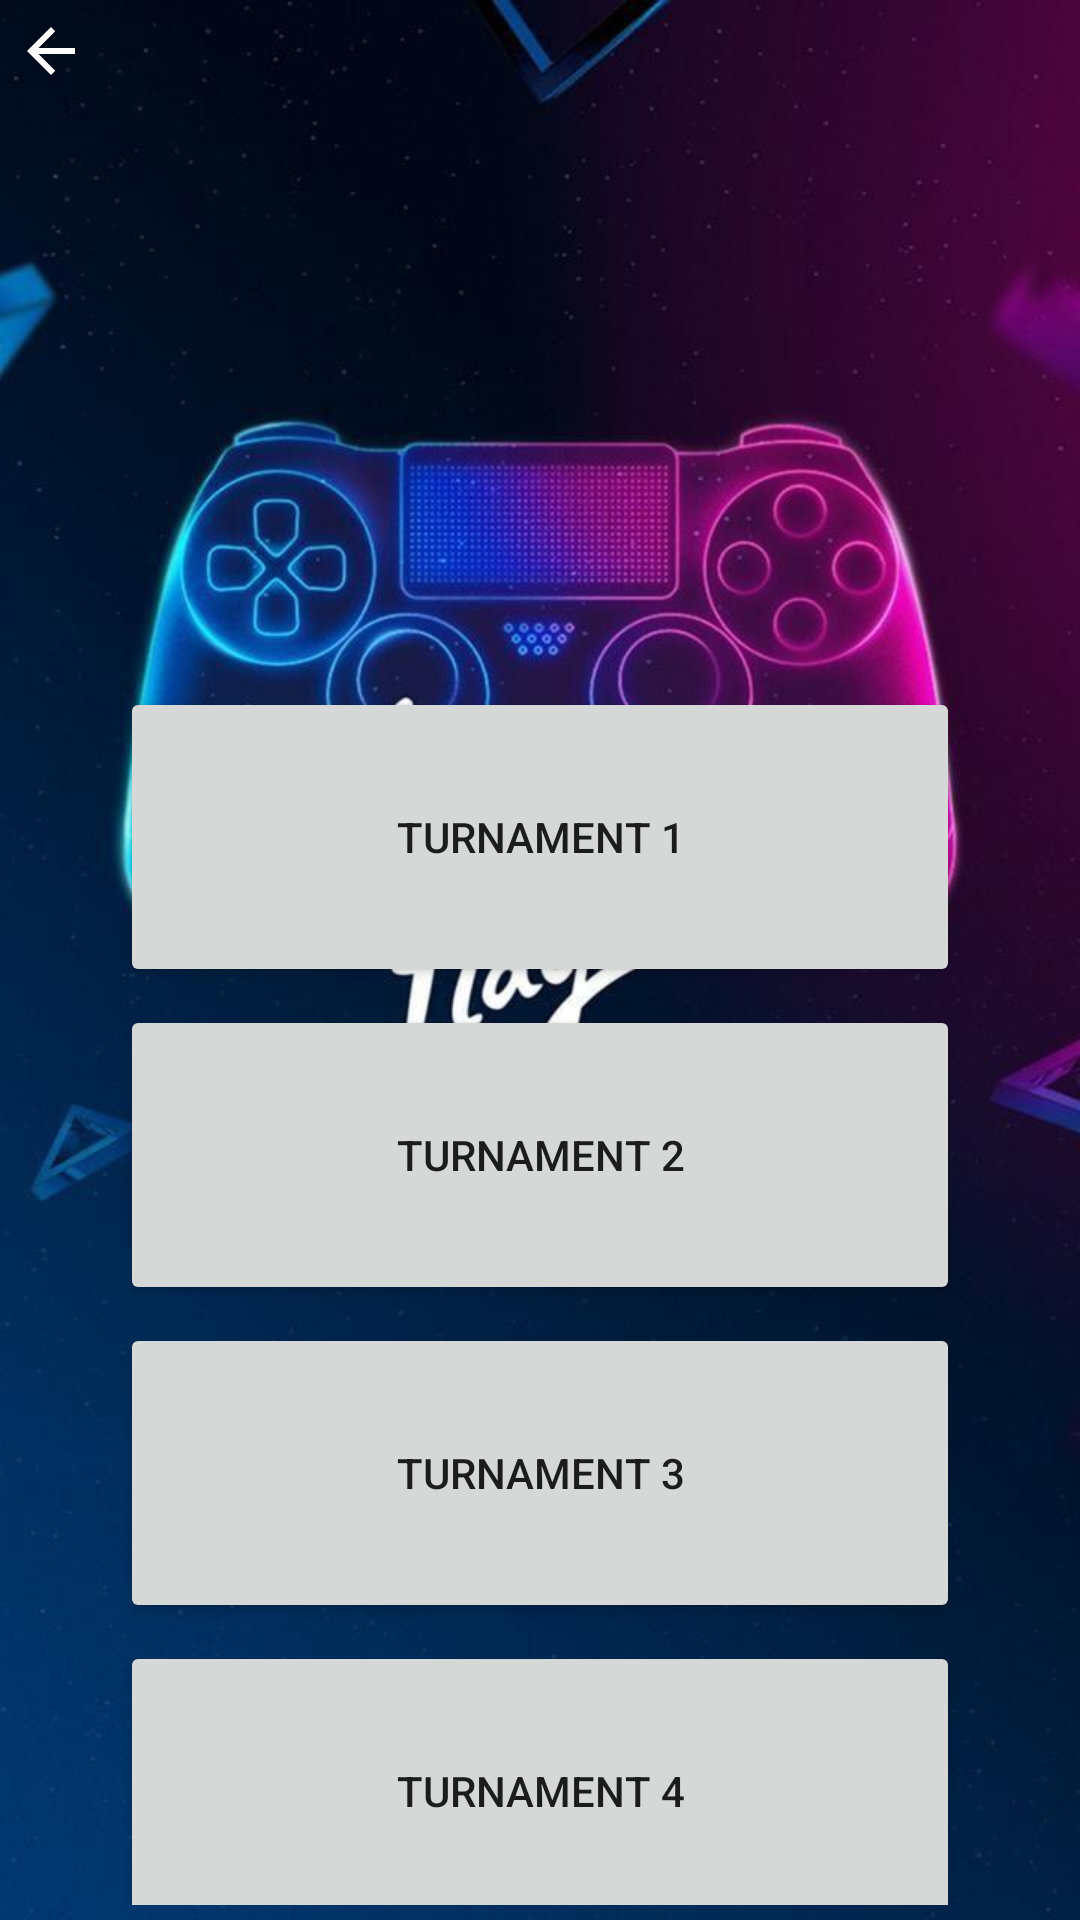

Where to tap for icons on this 1080w x 1920h app screen, as [x,y]:
backarrow: [45,53]
